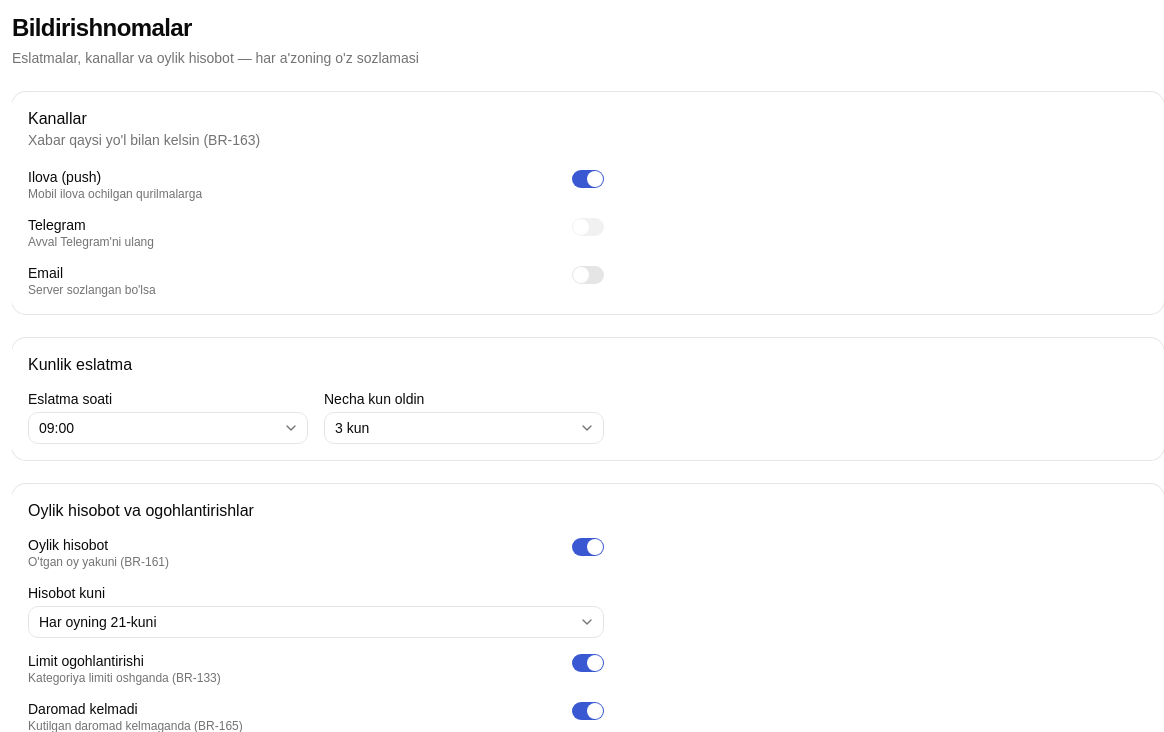
NotificationsPage (E25-T06) › sozlama darhol saqlanadi; Telegram ulanmaguncha kanal o‘chiq
expect the text "Avval Telegram'ni ulang" is shown: met, box [28,234,154,250]
Click the switch named "Ilova (push)" in the row of "Ilova (push)".
click(588, 179)  # box [572,170,604,188]
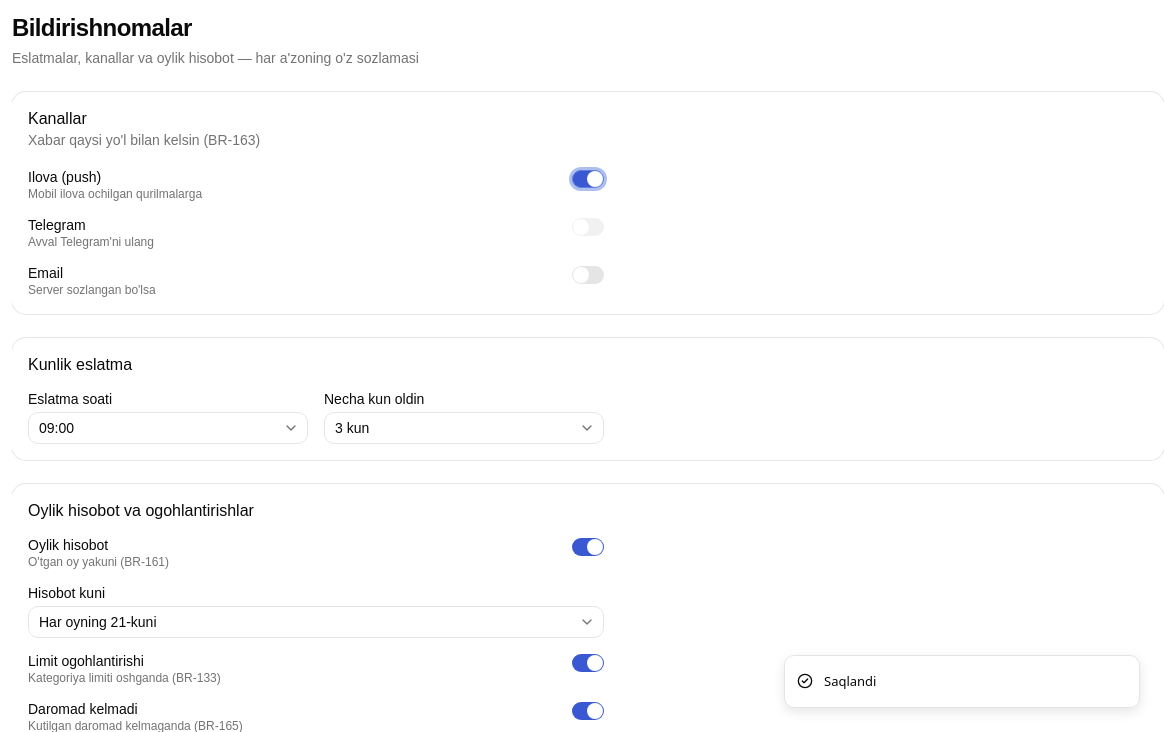
expect the text "Saqlandi" is shown: met, box [824,672,876,691]
